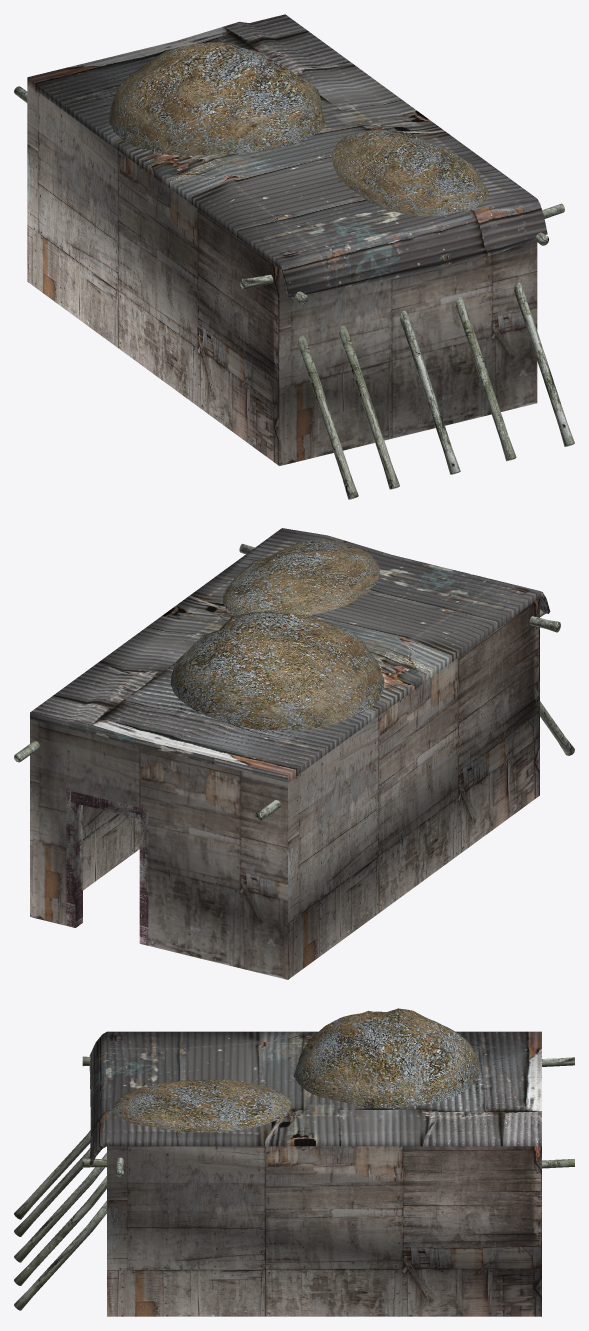
File: shanty7.fbx
3 views of the same model, one above another, from view 1: azimuth 30°, elevation 25°; view 2: azimuth 150°, elevation 25°; view 3: azimuth 270°, elevation 25° (orthographic). The views are drawn at different scales.
Parts seen in each view (by area): view 1: U3DMesh; view 2: U3DMesh; view 3: U3DMesh.
Part boxes in pixels (bbox=[...]): U3DMesh: bbox=[14, 14, 574, 499]; U3DMesh: bbox=[14, 528, 574, 979]; U3DMesh: bbox=[14, 1008, 574, 1316].
Size of the model in its own units: 221 by 176 by 391.
